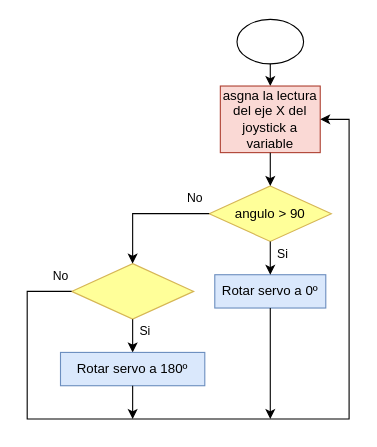
Image size: 377x447. Some labels were removed from this diagram. Each missing label, with the centre of its shape:
"angulo < -90" goes at (132,291).
"Inicio" goes at (270,41).
